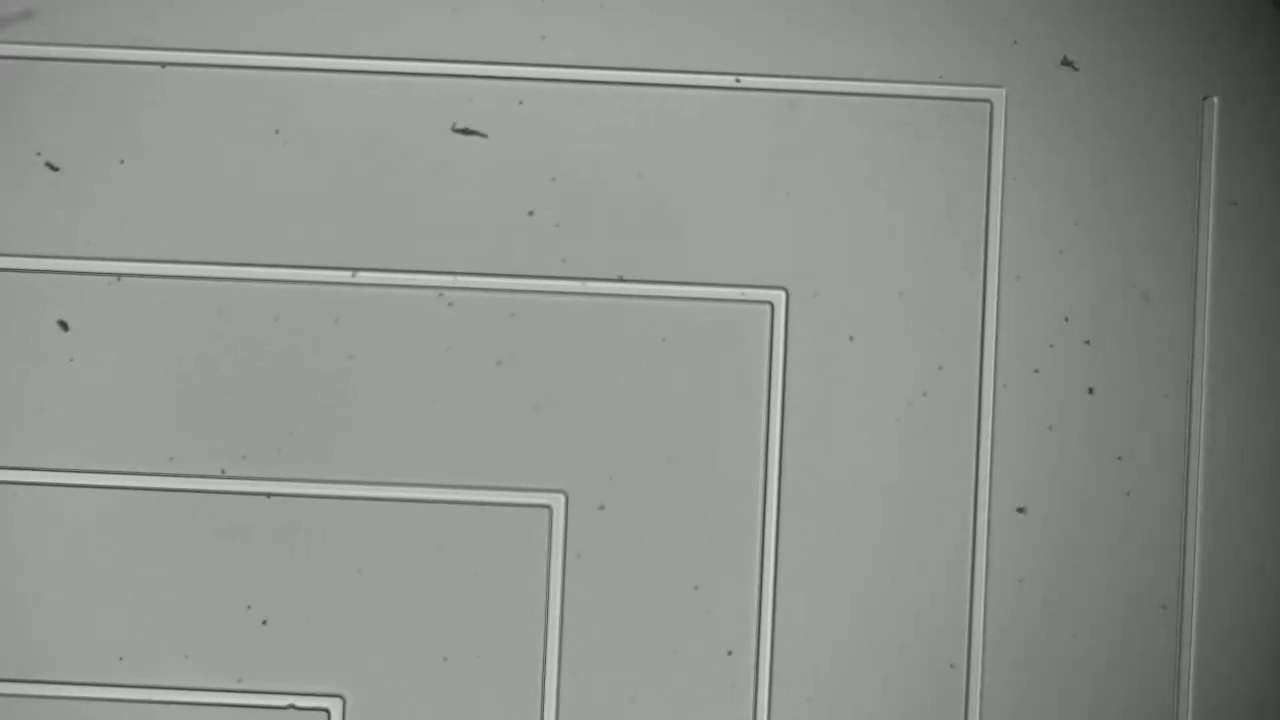edge_bite: (273, 679, 311, 716)
